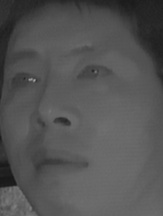eye: (74, 61, 114, 87), (7, 68, 42, 93)
mouth: (28, 147, 90, 184)
